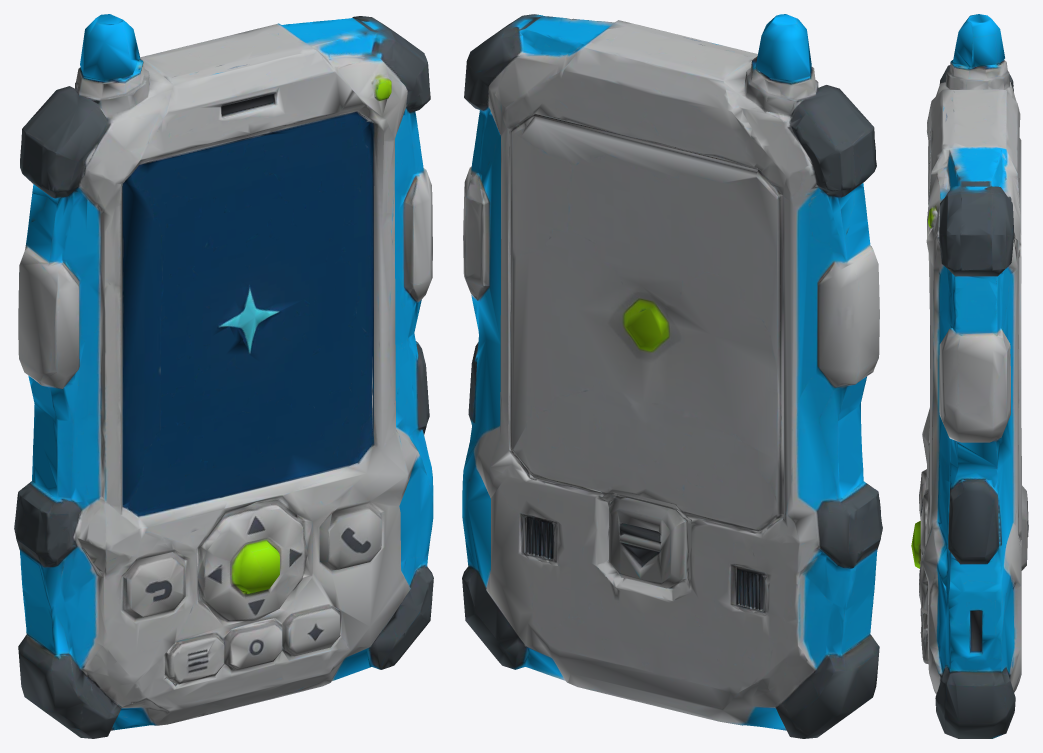
Rendered from phone.glb.
3 views of the same model, side by side, from view 1: azimuth 30°, elevation 25°; view 2: azimuth 150°, elevation 25°; view 3: azimuth 270°, elevation 25° (orthographic). The views are drawn at different scales.
Parts seen in each view (by area): view 1: node_0; view 2: node_0; view 3: node_0.
Part boxes in pixels (left/top/right/bottom): node_0: left=14, top=14, right=433, bottom=738; node_0: left=462, top=14, right=882, bottom=738; node_0: left=911, top=14, right=1028, bottom=738.
Bounding box in the file's own units: 0.6432 × 1.09 × 0.1904.
1 material, 1 textured.
